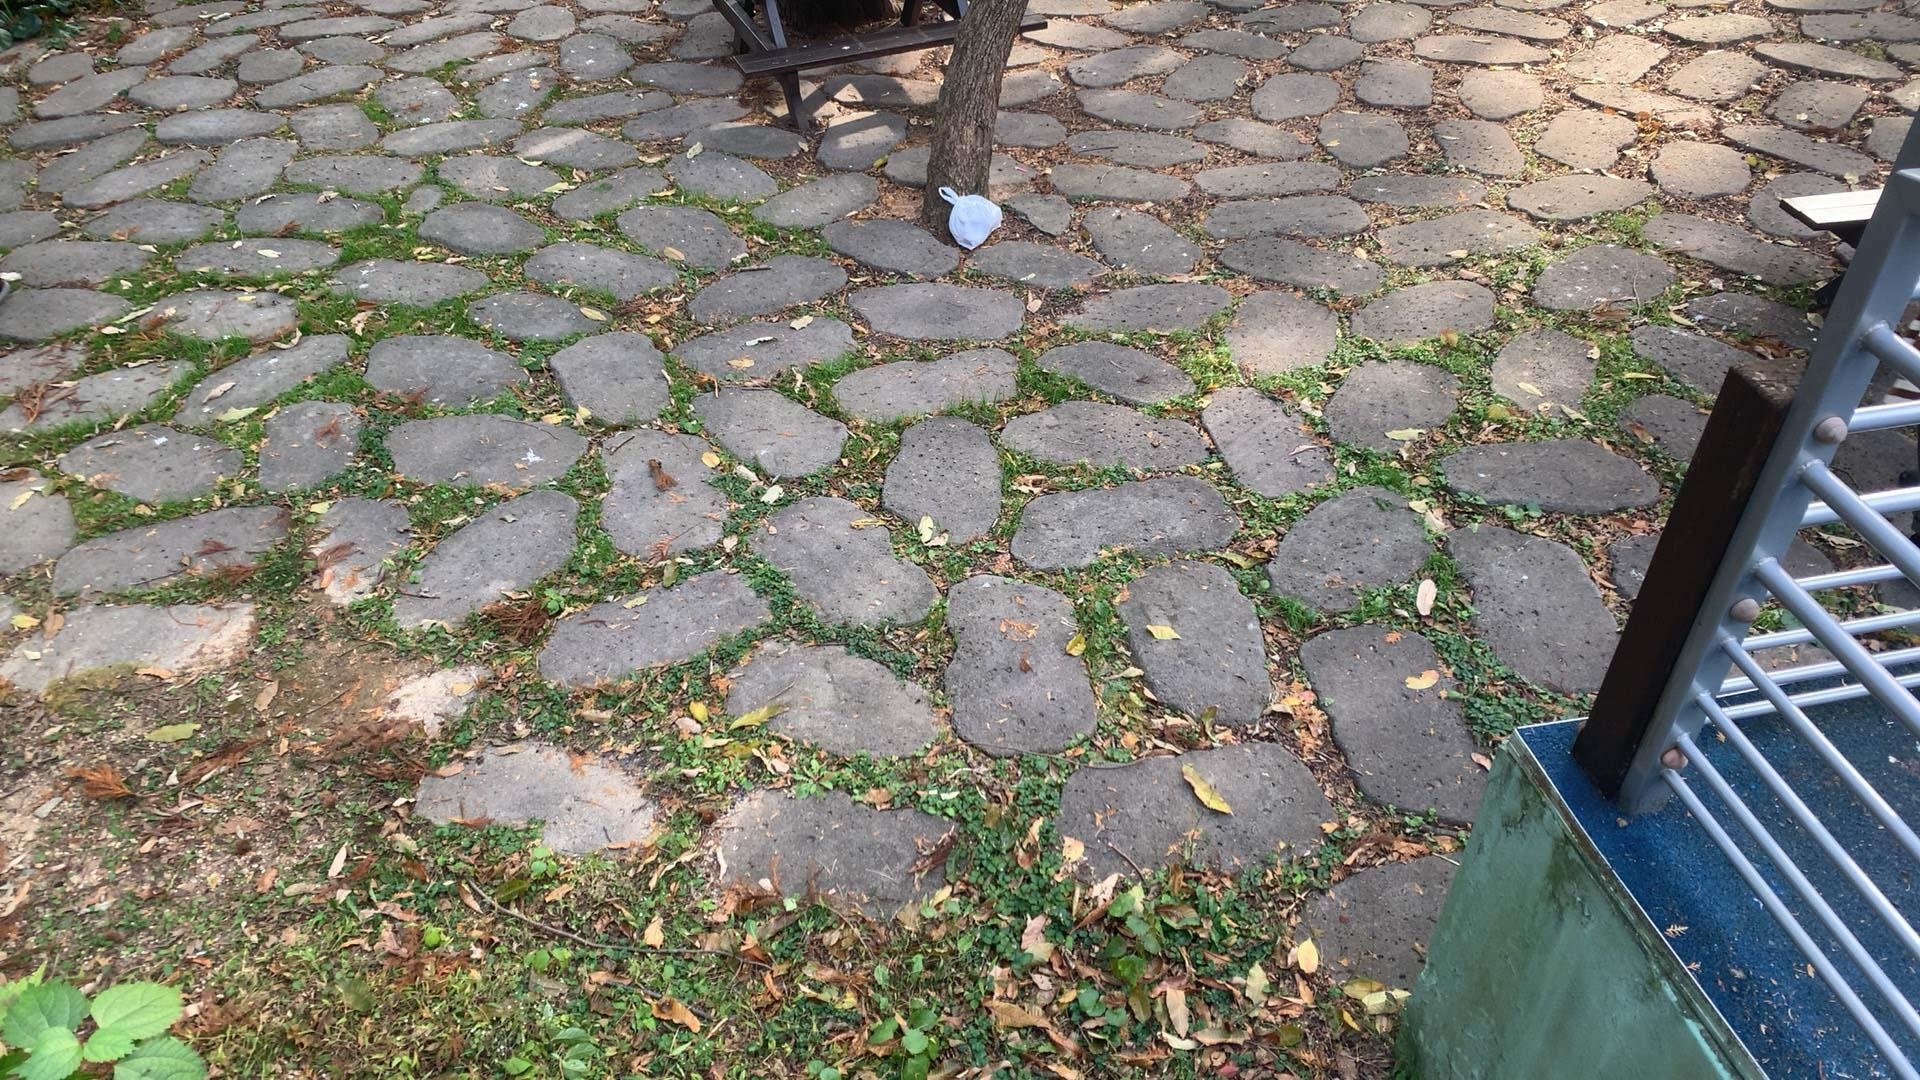white_bag: (934, 179, 1007, 251)
